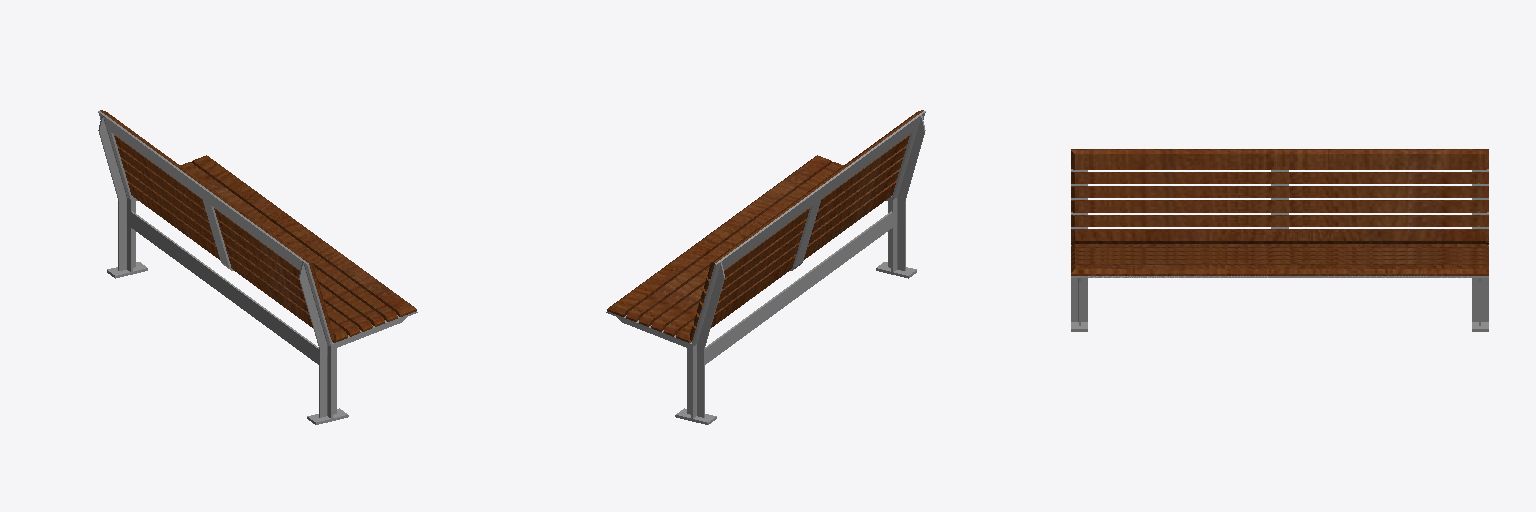
3 renders of one model, left to right at view 1: azimuth 30°, elevation 25°; view 2: azimuth 150°, elevation 25°; view 3: azimuth 270°, elevation 25°, orthographic.
Visible parts, largest first — view 1: mesh14.002_mesh14-geometry, mesh24.002_mesh24-geometry, mesh16.013_mesh16-geometry, mesh30.002_mesh30-geometry, mesh22.002_mesh22-geometry, mesh16.010_mesh16-geometry, mesh16.012_mesh16-geometry, mesh16.011_mesh16-geometry, mesh16.009_mesh16-geometry, mesh58.002_mesh58-geometry, mesh1.002_mesh1-geometry, mesh69.002_mesh69-geometry (+5 smaller); view 2: mesh14.002_mesh14-geometry, mesh24.002_mesh24-geometry, mesh16.013_mesh16-geometry, mesh30.002_mesh30-geometry, mesh22.002_mesh22-geometry, mesh16.010_mesh16-geometry, mesh16.012_mesh16-geometry, mesh16.011_mesh16-geometry, mesh16.009_mesh16-geometry, mesh1.002_mesh1-geometry, mesh58.002_mesh58-geometry, mesh42.002_mesh42-geometry (+5 smaller); view 3: mesh18.002_mesh18-geometry, mesh22.002_mesh22-geometry, mesh16.011_mesh16-geometry, mesh16.012_mesh16-geometry, mesh16.010_mesh16-geometry, mesh16.009_mesh16-geometry, mesh14.002_mesh14-geometry, mesh16.013_mesh16-geometry, mesh20.002_mesh20-geometry, mesh16.016_mesh16-geometry, mesh16.015_mesh16-geometry, mesh16.014_mesh16-geometry (+3 smaller).
Boxes of the visible parts, x1,y1,x2,y2 form: mesh14.002_mesh14-geometry: [191, 155, 416, 316]; mesh24.002_mesh24-geometry: [131, 211, 318, 364]; mesh16.013_mesh16-geometry: [180, 162, 397, 321]; mesh30.002_mesh30-geometry: [107, 117, 300, 269]; mesh22.002_mesh22-geometry: [127, 180, 333, 341]; mesh16.010_mesh16-geometry: [117, 145, 323, 302]; mesh16.012_mesh16-geometry: [124, 169, 329, 326]; mesh16.011_mesh16-geometry: [121, 158, 326, 314]; mesh16.009_mesh16-geometry: [114, 135, 319, 290]; mesh58.002_mesh58-geometry: [319, 344, 336, 418]; mesh1.002_mesh1-geometry: [118, 198, 135, 271]; mesh69.002_mesh69-geometry: [299, 257, 332, 347]; mesh14.002_mesh14-geometry: [607, 155, 832, 316]; mesh24.002_mesh24-geometry: [705, 211, 892, 364]; mesh16.013_mesh16-geometry: [626, 162, 843, 321]; mesh30.002_mesh30-geometry: [723, 117, 916, 269]; mesh22.002_mesh22-geometry: [690, 180, 896, 341]; mesh16.010_mesh16-geometry: [700, 145, 906, 302]; mesh16.012_mesh16-geometry: [694, 169, 899, 326]; mesh16.011_mesh16-geometry: [697, 158, 902, 314]; mesh16.009_mesh16-geometry: [704, 135, 909, 290]; mesh1.002_mesh1-geometry: [687, 344, 704, 418]; mesh58.002_mesh58-geometry: [888, 198, 905, 271]; mesh42.002_mesh42-geometry: [691, 257, 724, 347]; mesh18.002_mesh18-geometry: [1071, 149, 1488, 169]; mesh22.002_mesh22-geometry: [1071, 229, 1488, 244]; mesh16.011_mesh16-geometry: [1071, 200, 1488, 212]; mesh16.012_mesh16-geometry: [1071, 215, 1488, 226]; mesh16.010_mesh16-geometry: [1071, 186, 1488, 197]; mesh16.009_mesh16-geometry: [1071, 172, 1488, 183]; mesh14.002_mesh14-geometry: [1071, 265, 1488, 275]; mesh16.013_mesh16-geometry: [1071, 260, 1488, 266]; mesh20.002_mesh20-geometry: [1071, 244, 1488, 249]; mesh16.016_mesh16-geometry: [1071, 248, 1488, 254]; mesh16.015_mesh16-geometry: [1071, 252, 1488, 258]; mesh16.014_mesh16-geometry: [1071, 256, 1488, 262].
Bounding box in the file's own units: 0.2775 × 0.3811 × 0.8819.
3 materials, 1 textured.